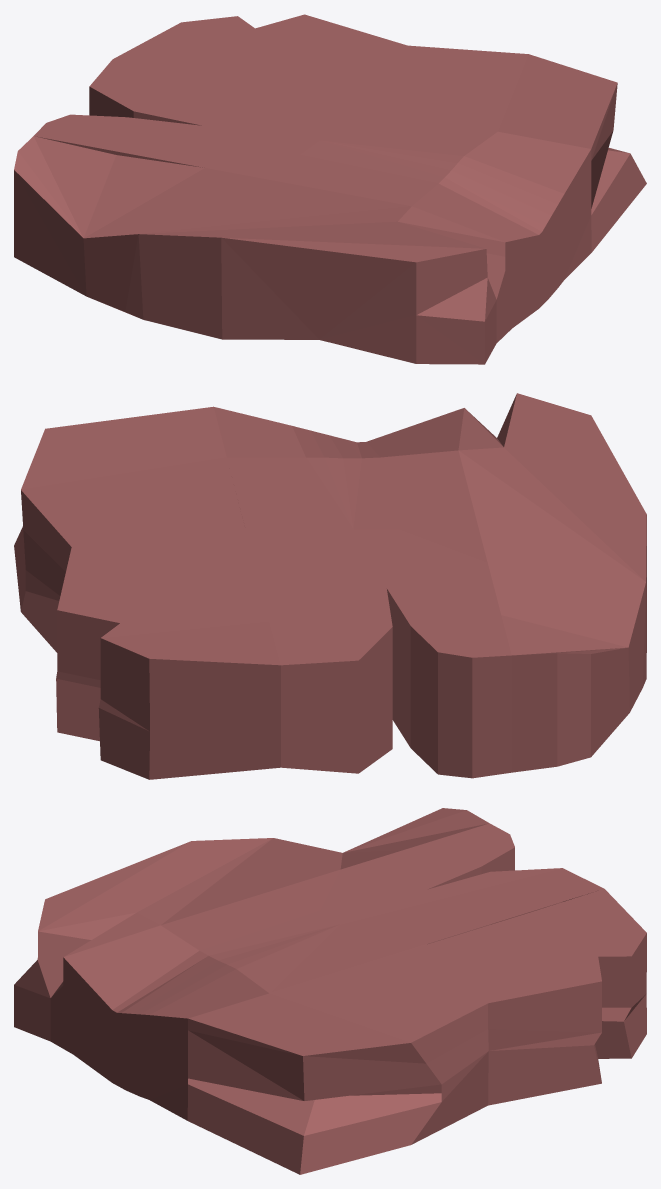
3 views of the same model, one above another, from view 1: azimuth 30°, elevation 25°; view 2: azimuth 150°, elevation 25°; view 3: azimuth 270°, elevation 25° (orthographic). The views are drawn at different scales.
Parts seen in each view (by area): view 1: Cube; view 2: Cube; view 3: Cube.
Boxes of the visible parts, x1,y1,x2,y2 form: Cube: (14,14,646,364); Cube: (14,393,646,779); Cube: (14,808,646,1174).
Size of the model in its own units: 306 by 58.81 by 303.
